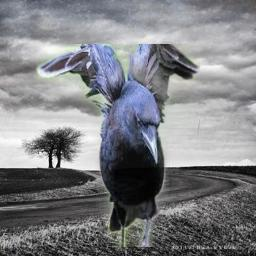Crow: (36, 44, 200, 247)
